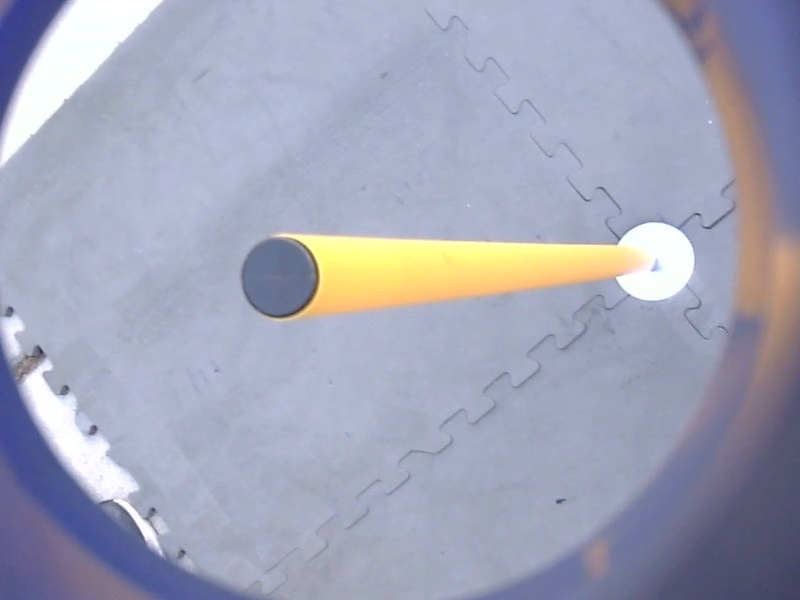tip: (235, 227, 330, 326)
